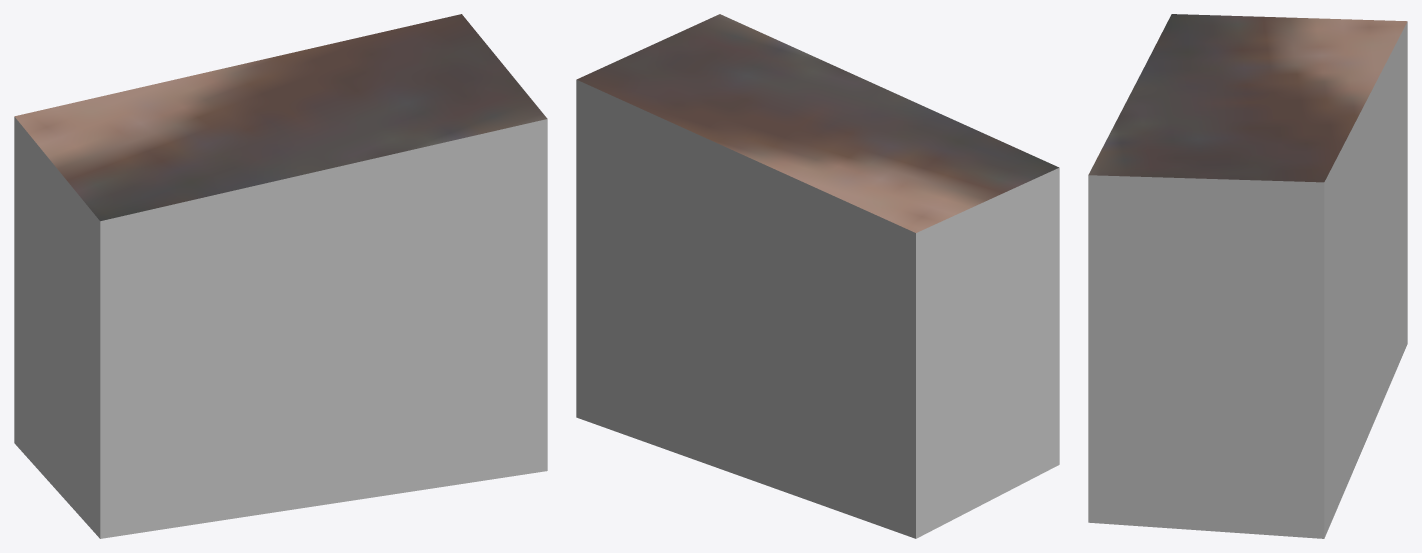
File: DEBW_0010007THXt.gltf
3 views of the same model, side by side, from view 1: azimuth 30°, elevation 25°; view 2: azimuth 150°, elevation 25°; view 3: azimuth 270°, elevation 25° (orthographic). The views are drawn at different scales.
Parts seen in each view (by area): view 1: Z_UP; view 2: Z_UP; view 3: Z_UP.
Part boxes in pixels (x1=…): Z_UP: x1=14, y1=14, x2=547, y2=538; Z_UP: x1=576, y1=14, x2=1059, y2=538; Z_UP: x1=1088, y1=14, x2=1407, y2=538.
Size of the model in its own units: 3.9 by 3.07 by 2.49.
2 materials, 1 textured.
